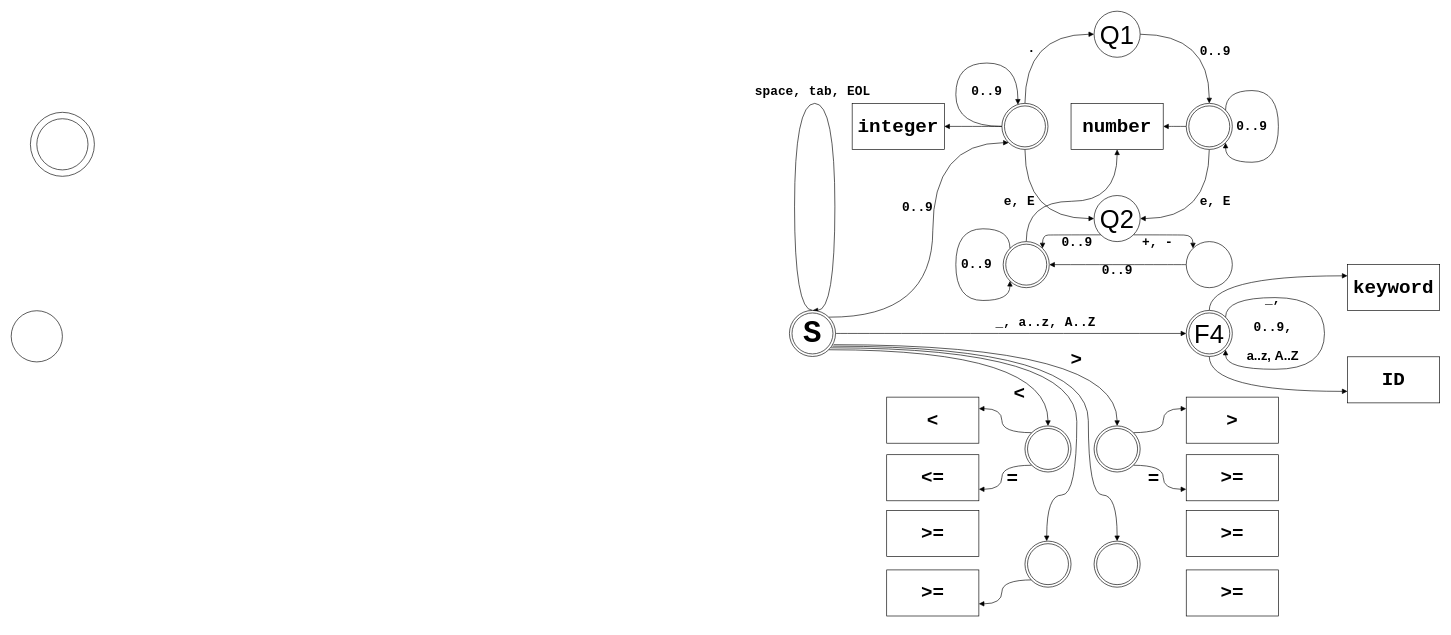
Image size: 1451x635. Some labels were removed from this diagram. Here are the shapes that lost their labels. From the top down, the centre of each, then its label:
point (1024, 126): F1
point (1209, 126): F2
point (1026, 264): F3
point (1209, 264): Q3
point (1047, 448): F6
point (1116, 448): F5
point (1047, 563): F8
point (1116, 563): F7
